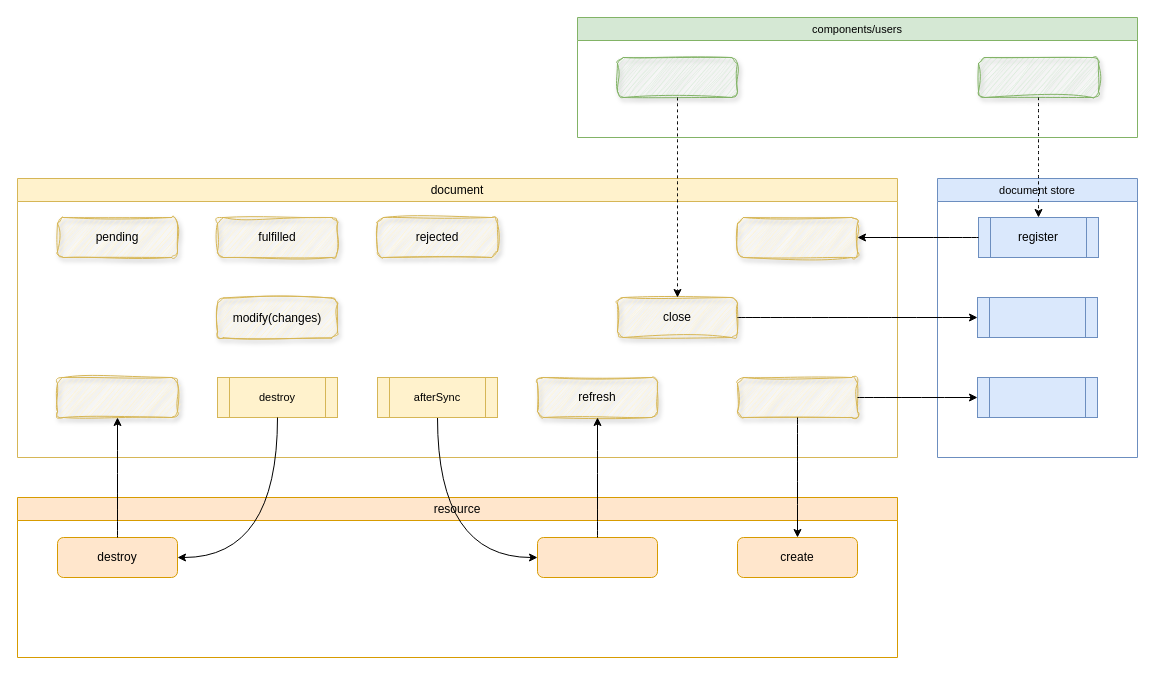
Some shapes in this 1155 by 675 pixel diagram are drawn without their labels. The shapes that lost their labels are listed below. From the top down, each one's centre as x and y in pixels, then its label:
At point (678, 78): "UNSUBSCRIBE".
At point (1039, 78): "SUBSCRIBE".
At point (798, 238): "open".
At point (1037, 317): "unregister".
At point (118, 398): "delete".
At point (798, 398): "persist".
At point (1037, 397): "registerResource".
At point (597, 557): "sync(diff)".
